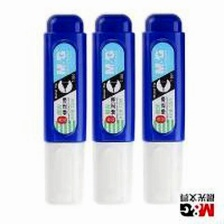correction_fluid: (40, 11, 88, 209), (90, 11, 137, 208), (140, 13, 187, 206)
